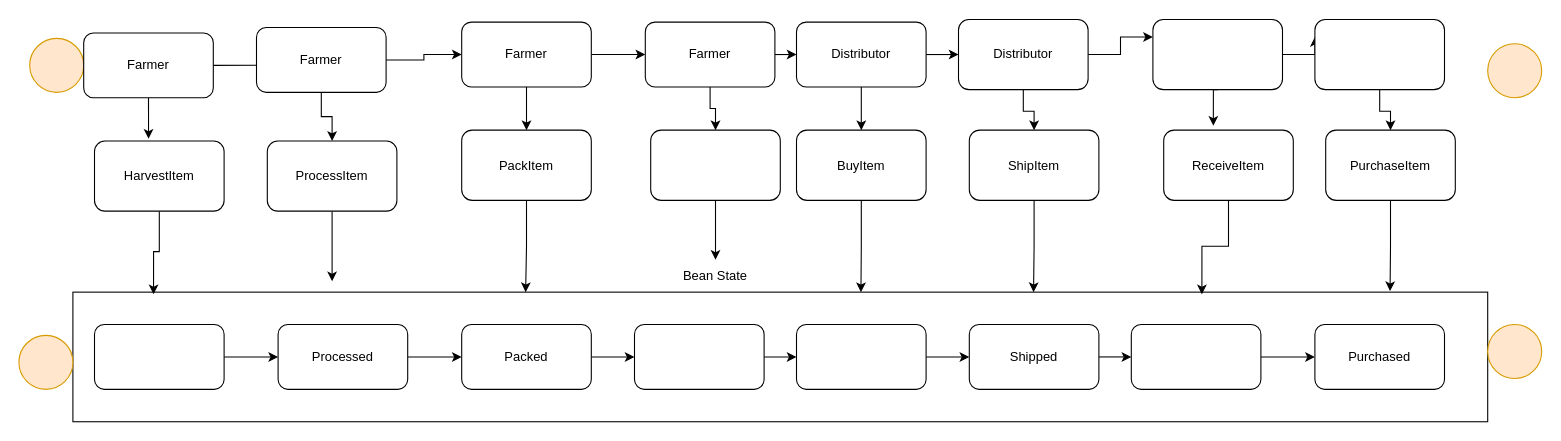
This 1561x441 diagram has some shape labels left out. Each missing label, with the centre of its shape:
Consumer: the point at 1379,54
For Sale: the point at 698,356
Harvested: the point at 158,356
Received: the point at 1195,356
Retailer: the point at 1217,54
SellItem: the point at 715,164
Sold: the point at 860,356
